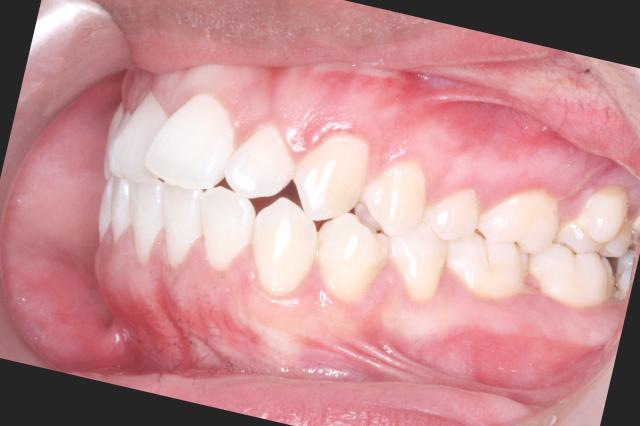canine class II 1/4: (238, 106, 416, 326)
molar class III 1/4: (438, 174, 570, 316)
